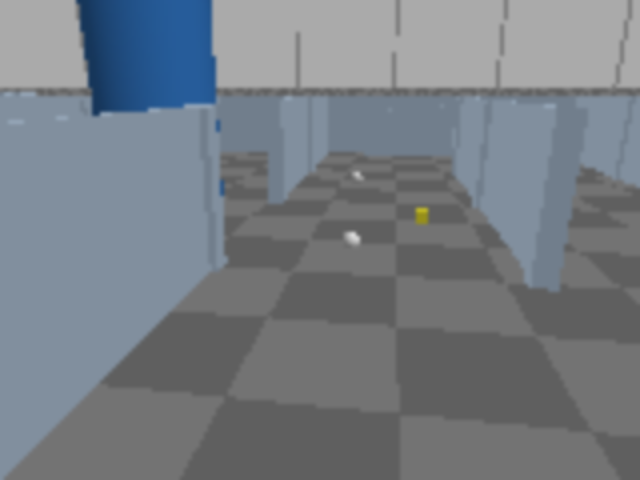puck: (339, 228, 363, 253)
